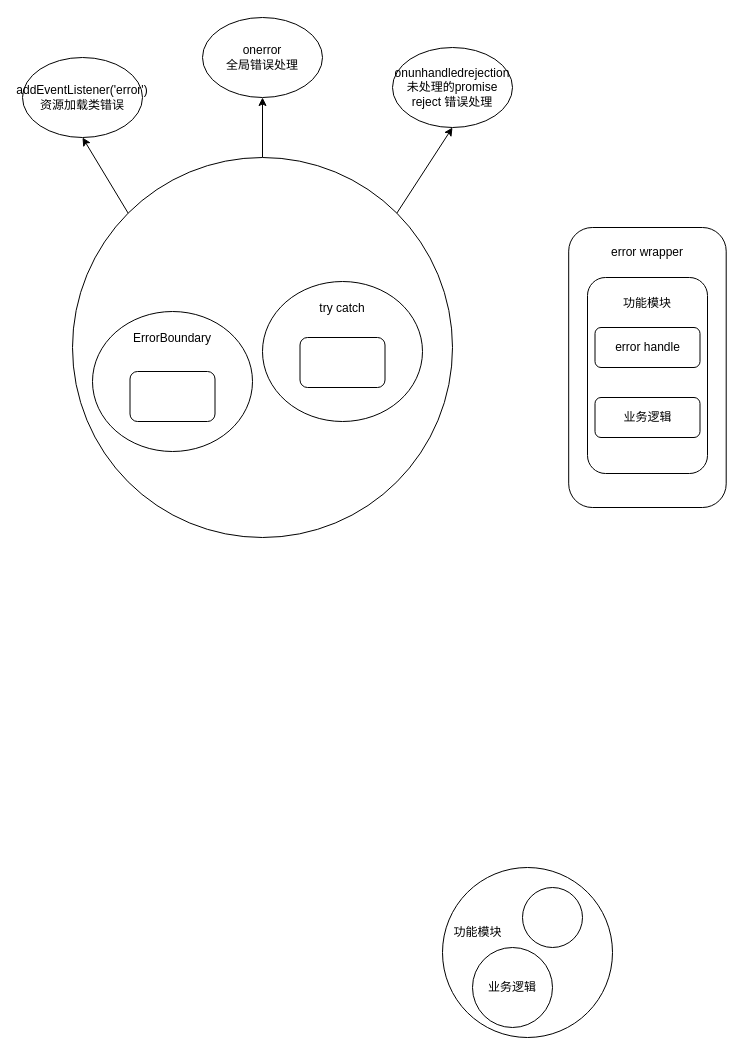
The diagram is 744 pixels wide and 1055 high, and some of its shapes have lost their labels. The shapes that lost their labels are listed below. From the top down, each one's centre as x and y in pixels, then its label:
At [342,362]: "非组件模块".
At [172,396]: "React 组件".
At [552,917]: "错误处理逻辑".
